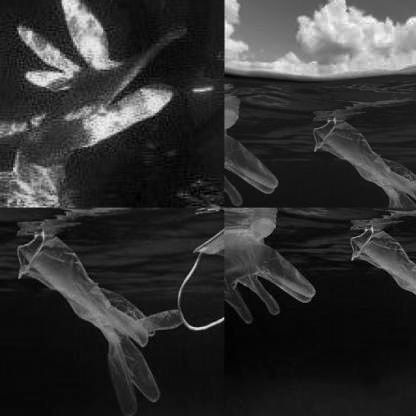Mask: (310, 111, 415, 207), (224, 102, 283, 207)
glove: (1, 0, 191, 185), (15, 231, 182, 414), (224, 218, 311, 325), (351, 227, 415, 360)
